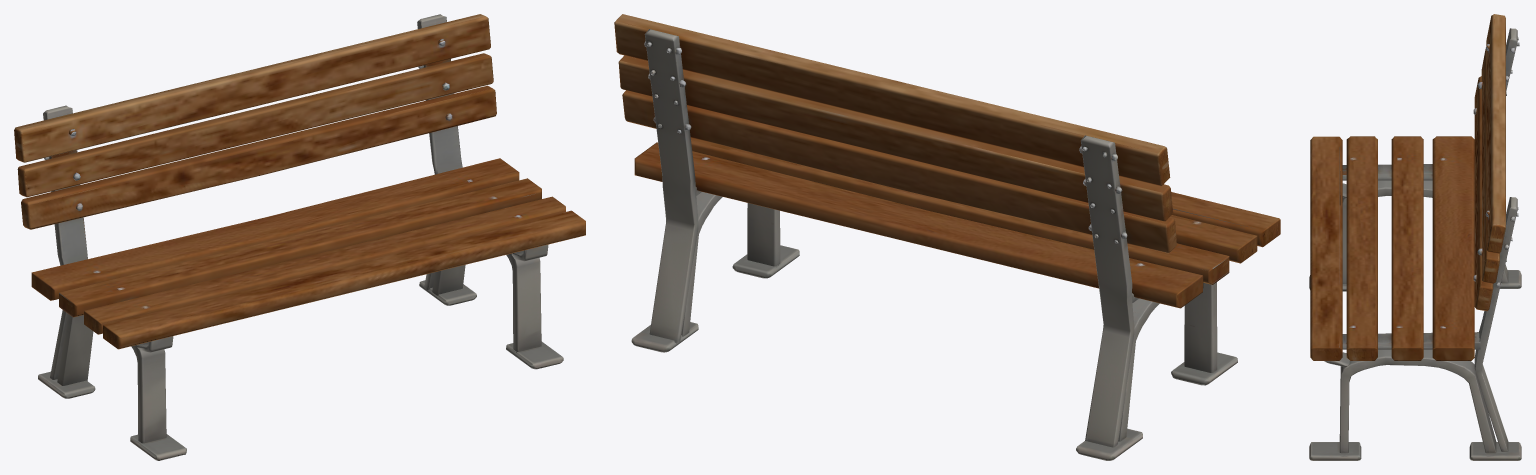
The model's file is bench.glb.
3 renders of one model, left to right at view 1: azimuth 30°, elevation 25°; view 2: azimuth 150°, elevation 25°; view 3: azimuth 270°, elevation 25°, orthographic. The views are drawn at different scales.
Parts seen in each view (by area): view 1: tripo_node_77d7acda-0494-4417-acec-e9643f89479e; view 2: tripo_node_77d7acda-0494-4417-acec-e9643f89479e; view 3: tripo_node_77d7acda-0494-4417-acec-e9643f89479e.
Boxes of the visible parts, box(x1,y1,x2,y2) form: tripo_node_77d7acda-0494-4417-acec-e9643f89479e: box(14, 14, 585, 460); tripo_node_77d7acda-0494-4417-acec-e9643f89479e: box(614, 14, 1280, 460); tripo_node_77d7acda-0494-4417-acec-e9643f89479e: box(1309, 14, 1521, 460).
Size of the model in its own units: 1.8 by 0.9898 by 0.7644.
Materials: 1 (1 with a texture image).
